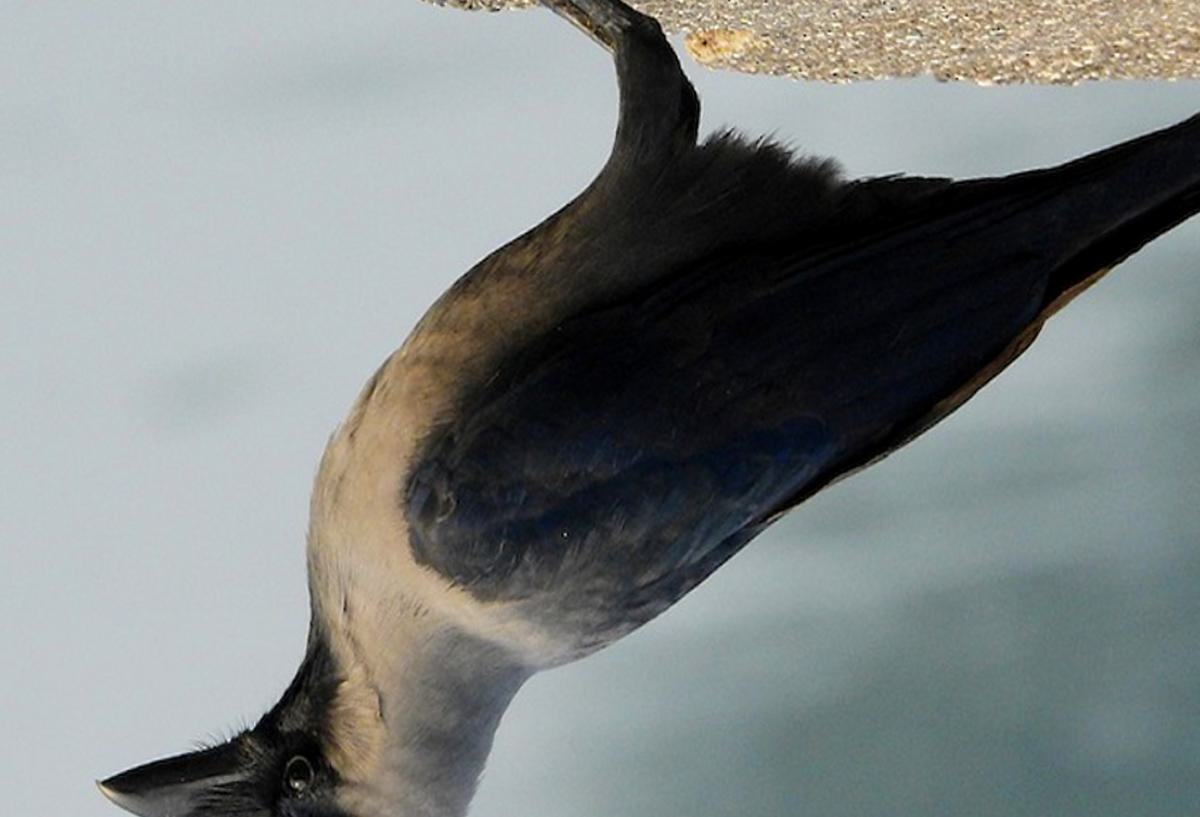crow: (92, 4, 1200, 813)
